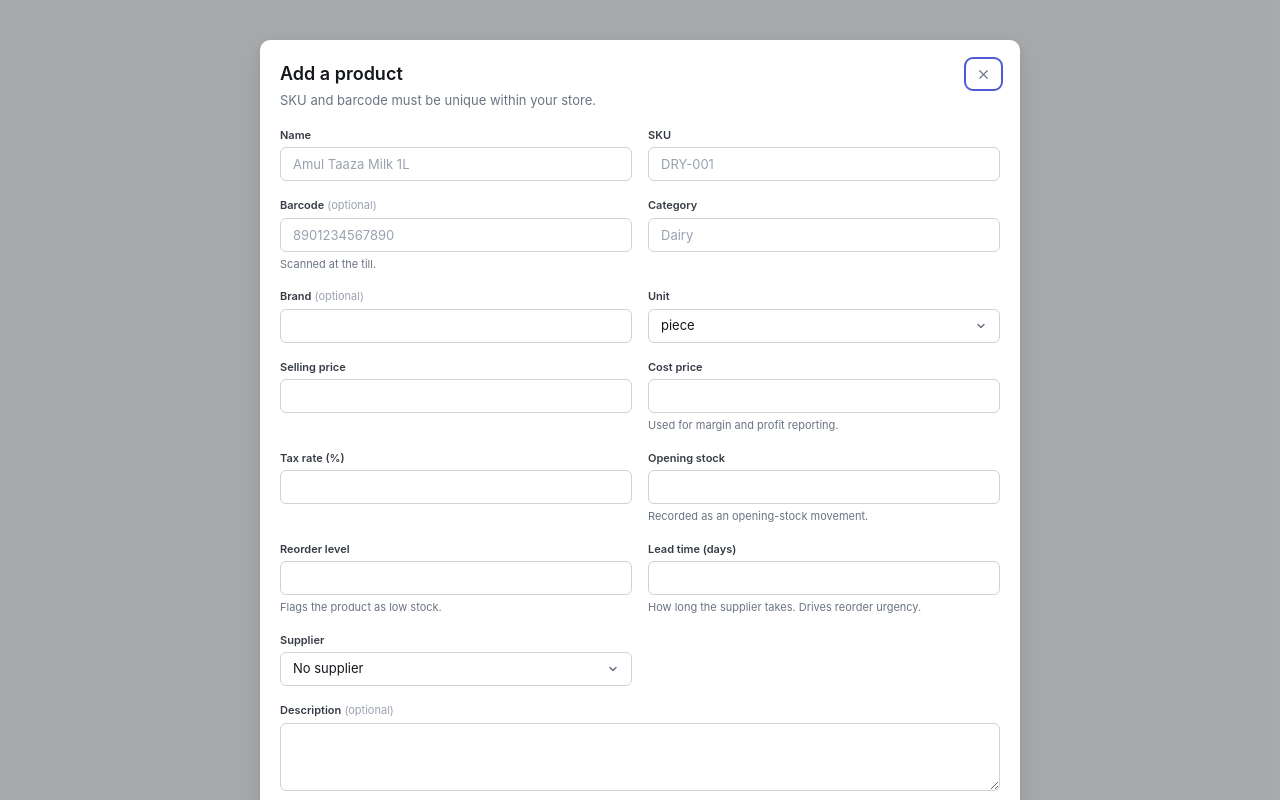
Test case: Product form › warns when the cost price is above the selling price
This screenshot has width=1280, height=800.
Step 1. Type "10" into the number field labelled "Selling price" → (456, 396), box [280,379,632,413]
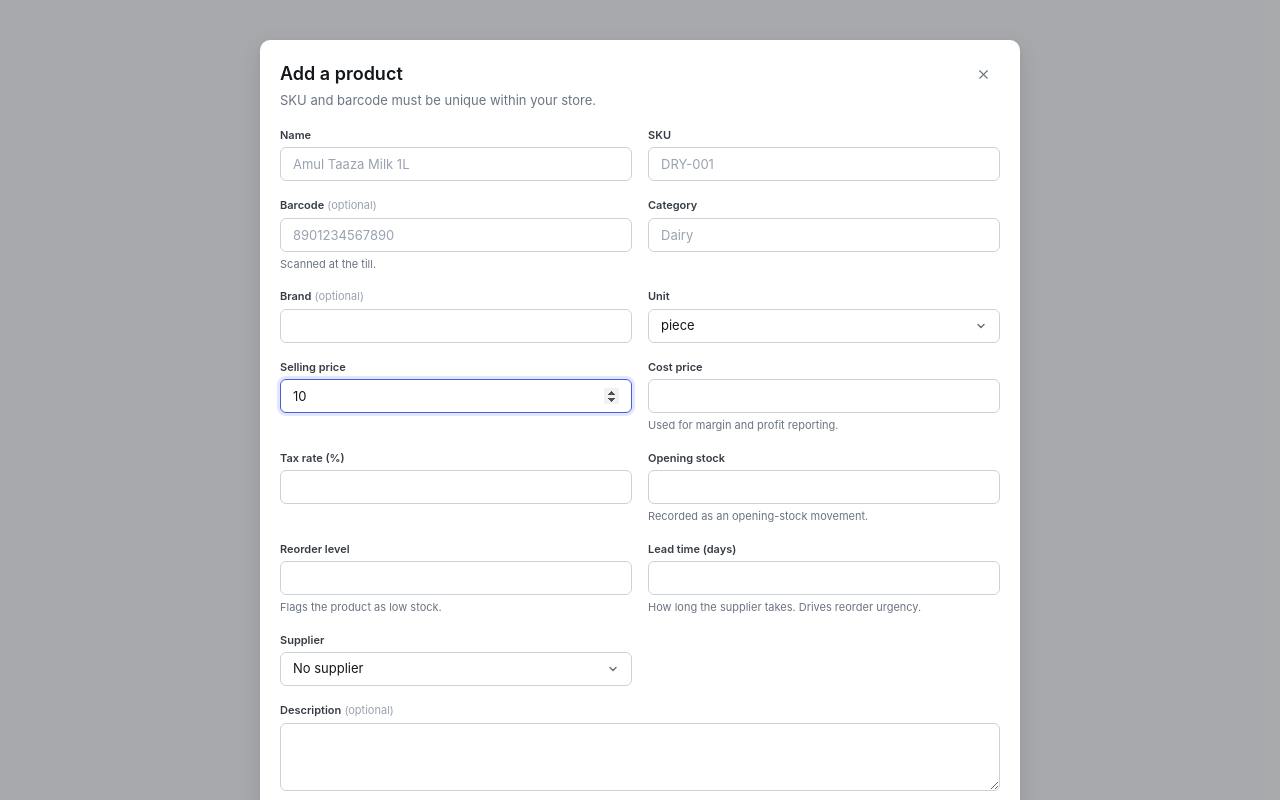
Step 2. Type "20" into the number field labelled "Cost price" → (824, 396), box [648,379,1000,413]
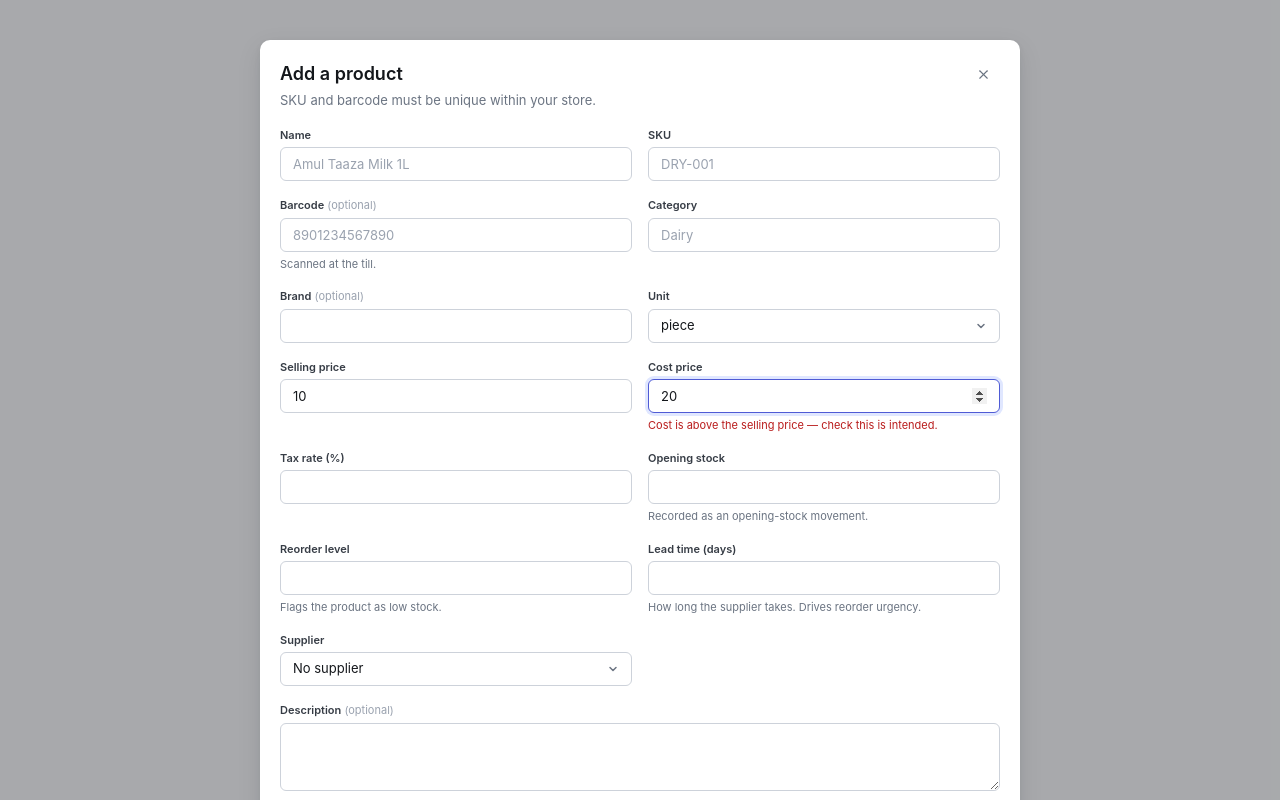
Check: the text "Cost is above the selling price — check this is intended." is shown, box [648,418,938,432]
